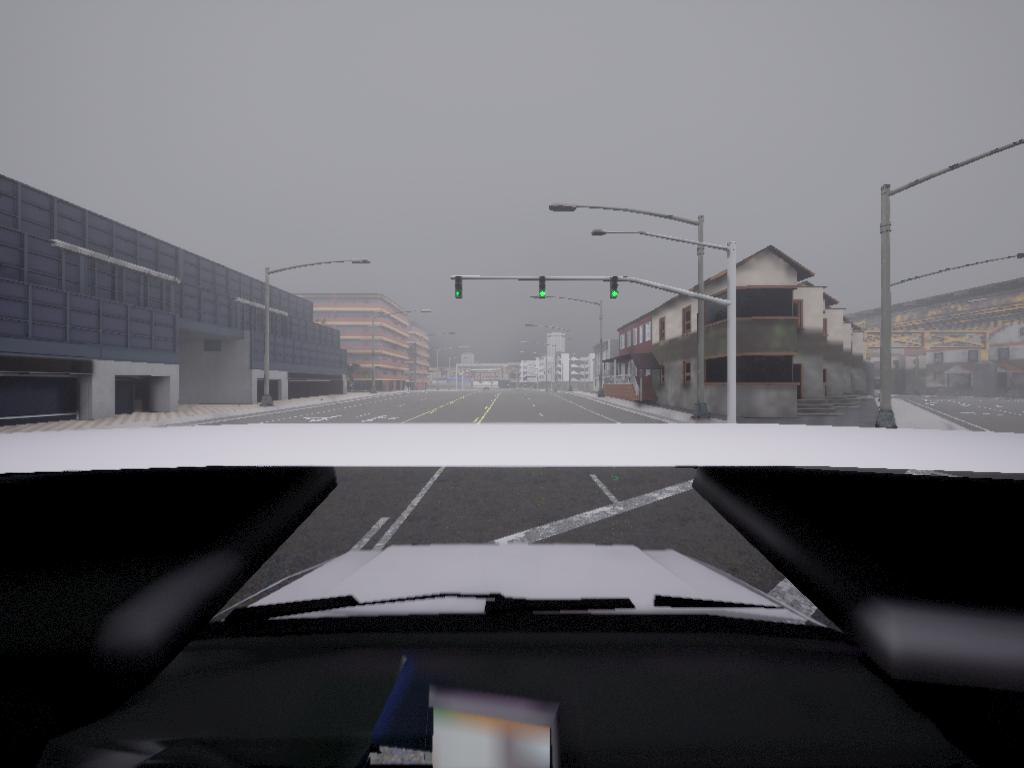traffic_light: (539, 279, 550, 300), (453, 277, 463, 300), (611, 279, 621, 301)
